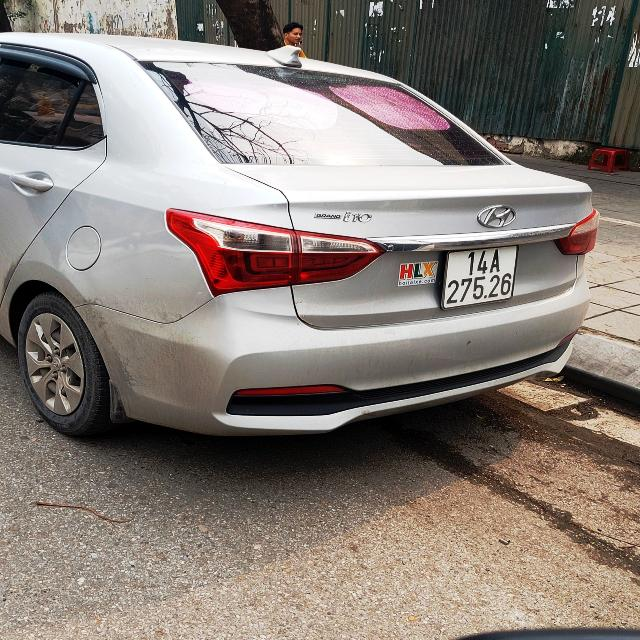license_plate: (442, 245, 519, 308)
